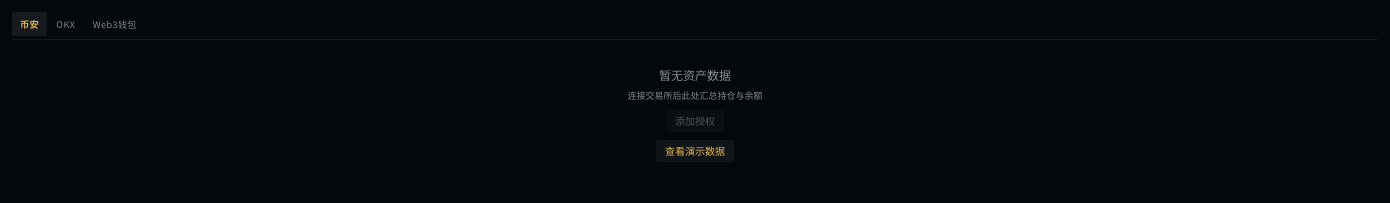
it: AssetOverview(资产聚合壳) › 切到 Web3钱包 → 显示 XRP/ETH
Click the button "查看演示数据" at (695, 151), box [656, 140, 734, 162]
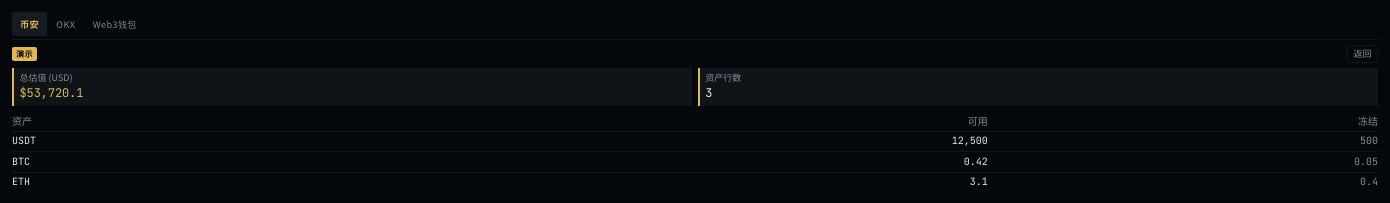
Click the button "Web3钱包" at (115, 24), box [85, 12, 145, 36]
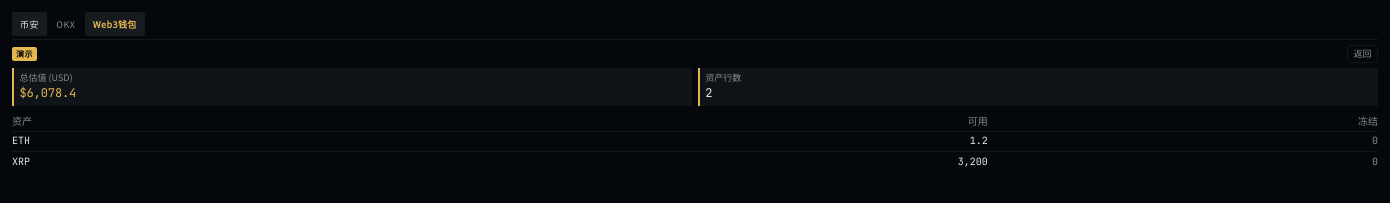
Expected: the text "ETH" is shown, [12, 131, 402, 152]
Expected: the text "XRP" is shown, [12, 152, 402, 172]
